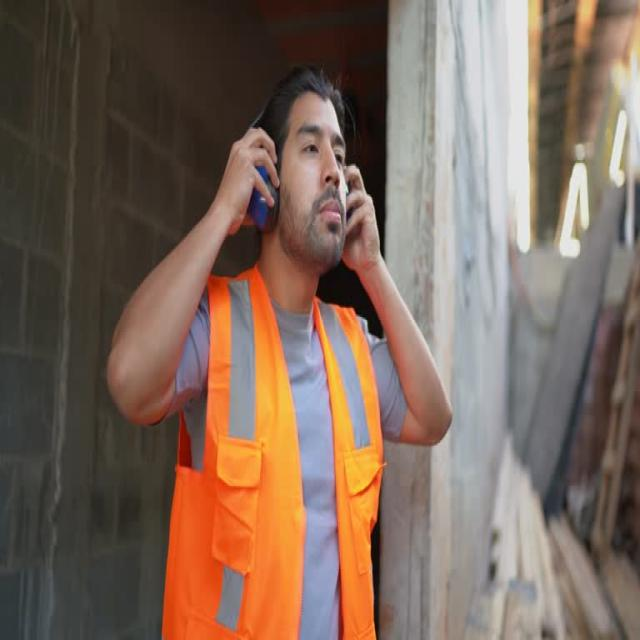Ear Muffs: (246, 106, 281, 240)
Reflective Vest: (156, 255, 398, 637)
